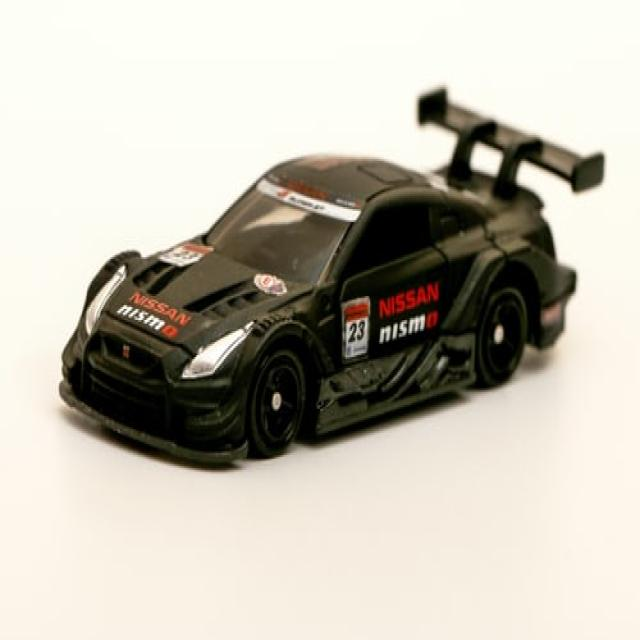Car: (58, 85, 604, 466)
